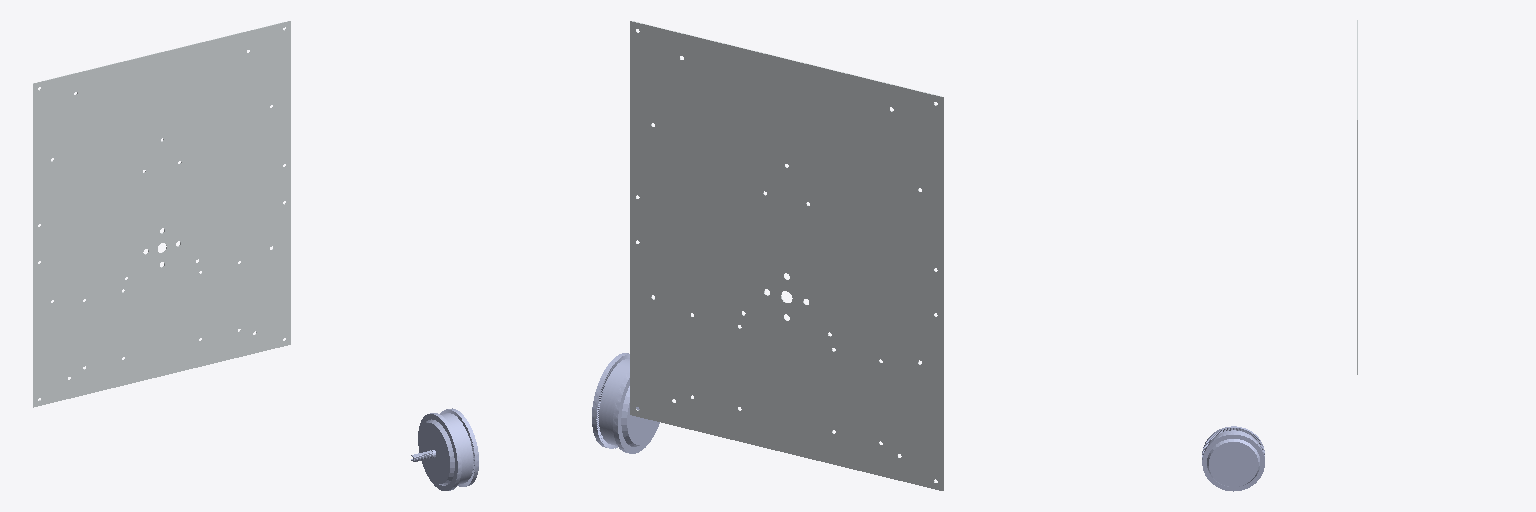
URDF robot description (Mesh_Test 1):
<?xml version="1.0" encoding="utf-8"?>
<!-- This URDF was automatically created by SolidWorks to URDF Exporter! Originally created by [author] ([email redacted]) 
     Commit Version: 1.6.0-4-g7f85cfe  Build Version: 1.6.7995.38578
     For more information, please see http://wiki.ros.org/sw_urdf_exporter -->
<robot
  name="Mesh_Test 1">
  <link
    name="base_link">
    <inertial>
      <origin
        xyz="-5.84505247034386E-17 0.00079375 0.000265327589355033"
        rpy="0 0 0" />
      <mass
        value="1.32056296323122" />
      <inertia
        ixx="0.0409395515105557"
        ixy="-1.52642447904594E-24"
        ixz="-2.54837945936156E-18"
        iyy="0.0693550666433511"
        iyz="6.14200166737156E-23"
        izz="0.0284160698036296" />
    </inertial>
    <visual>
      <origin
        xyz="0 0 0"
        rpy="0 0 0" />
      <geometry>
        <mesh
          filename="package://Mesh_Test 1/meshes/base_link.STL" />
      </geometry>
      <material
        name="">
        <color
          rgba="0.898039215686275 0.917647058823529 0.929411764705882 1" />
      </material>
    </visual>
    <collision>
      <origin
        xyz="0 0 0"
        rpy="0 0 0" />
      <geometry>
        <mesh
          filename="package://Mesh_Test 1/meshes/base_link.STL" />
      </geometry>
    </collision>
  </link>
  <link
    name="left_back_wheel _link">
    <inertial>
      <origin
        xyz="0.409887197643898 -0.266701102285171 -0.431799997707889"
        rpy="0 0 0" />
      <mass
        value="0.688088365328556" />
      <inertia
        ixx="0.00135597023100555"
        ixy="-5.01387921688332E-08"
        ixz="1.26679291090325E-10"
        iyy="0.000856228816633819"
        iyz="1.93320923710776E-11"
        izz="0.000856245623915024" />
    </inertial>
    <visual>
      <origin
        xyz="0 0 0"
        rpy="0 0 0" />
      <geometry>
        <mesh
          filename="package://Mesh_Test 1/meshes/left_back_wheel _link.STL" />
      </geometry>
      <material
        name="">
        <color
          rgba="0.792156862745098 0.819607843137255 0.933333333333333 1" />
      </material>
    </visual>
    <collision>
      <origin
        xyz="0 0 0"
        rpy="0 0 0" />
      <geometry>
        <mesh
          filename="package://Mesh_Test 1/meshes/left_back_wheel _link.STL" />
      </geometry>
    </collision>
  </link>
  <joint
    name="base_left_back_wheel_joint"
    type="revolute">
    <origin
      xyz="0 0 0"
      rpy="0 0 0" />
    <parent
      link="base_link" />
    <child
      link="left_back_wheel _link" />
    <axis
      xyz="-1 0 0" />
    <limit
      lower="-3.14"
      upper="3.14"
      effort="100"
      velocity="10" />
  </joint>
</robot>

--- Render facts (derived) ---
3 views of the same robot in one strip: view 1: azimuth 30°, elevation 25°; view 2: azimuth 150°, elevation 25°; view 3: azimuth 270°, elevation 25° (orthographic).
Robot: Mesh_Test 1 — 2 links, 1 joints (1 revolute); root link base_link; default pose: all joints at 0.
Links seen in each view (by area): view 1: base_link, left_back_wheel _link; view 2: base_link, left_back_wheel _link; view 3: left_back_wheel _link.
Boxes of the visible links, x1=… form: base_link: x1=33, y1=21, x2=290, y2=407; left_back_wheel _link: x1=411, y1=408, x2=478, y2=490; base_link: x1=630, y1=21, x2=943, y2=490; left_back_wheel _link: x1=592, y1=353, x2=659, y2=453; left_back_wheel _link: x1=1202, y1=426, x2=1264, y2=491.
Bounding box of the posed robot: 0.6922 × 0.3363 × 0.8046 m (x, y, z).
2 mesh visuals loaded from 2 distinct referenced files (2 binary STL).